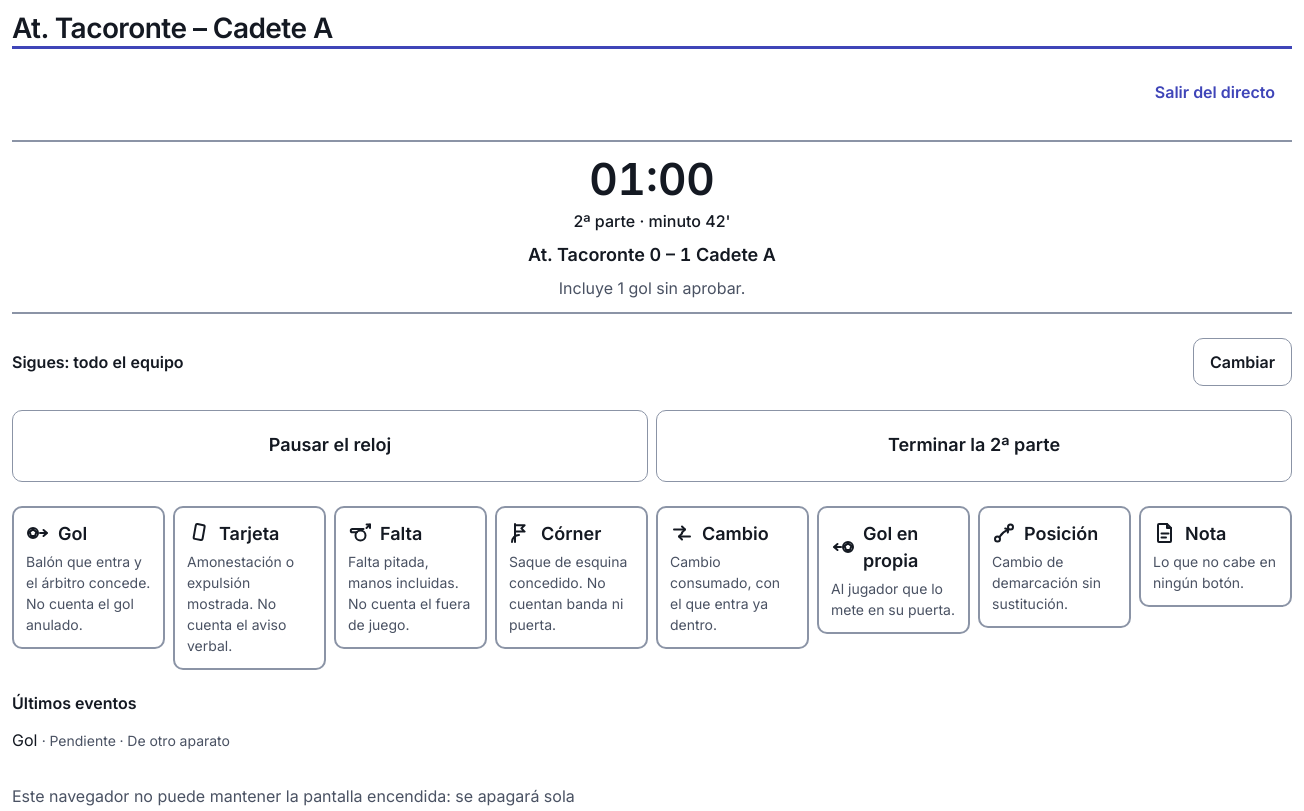
it: A12 · Directo, esqueleto › la marca lleva el reloj de la parte abierta, `null` al terminarla, y se va al finalizar (T-225)
The width and height of the screenshot is (1304, 811).
Check: the button "Terminar la 2ª parte" is shown, box x1=656 y1=410 x2=1292 y2=482
// En pausa: el mismo arranque, con el instante en que se paró.
Click the button "Pausar el reloj" at (330, 446), box x1=12 y1=410 x2=648 y2=482
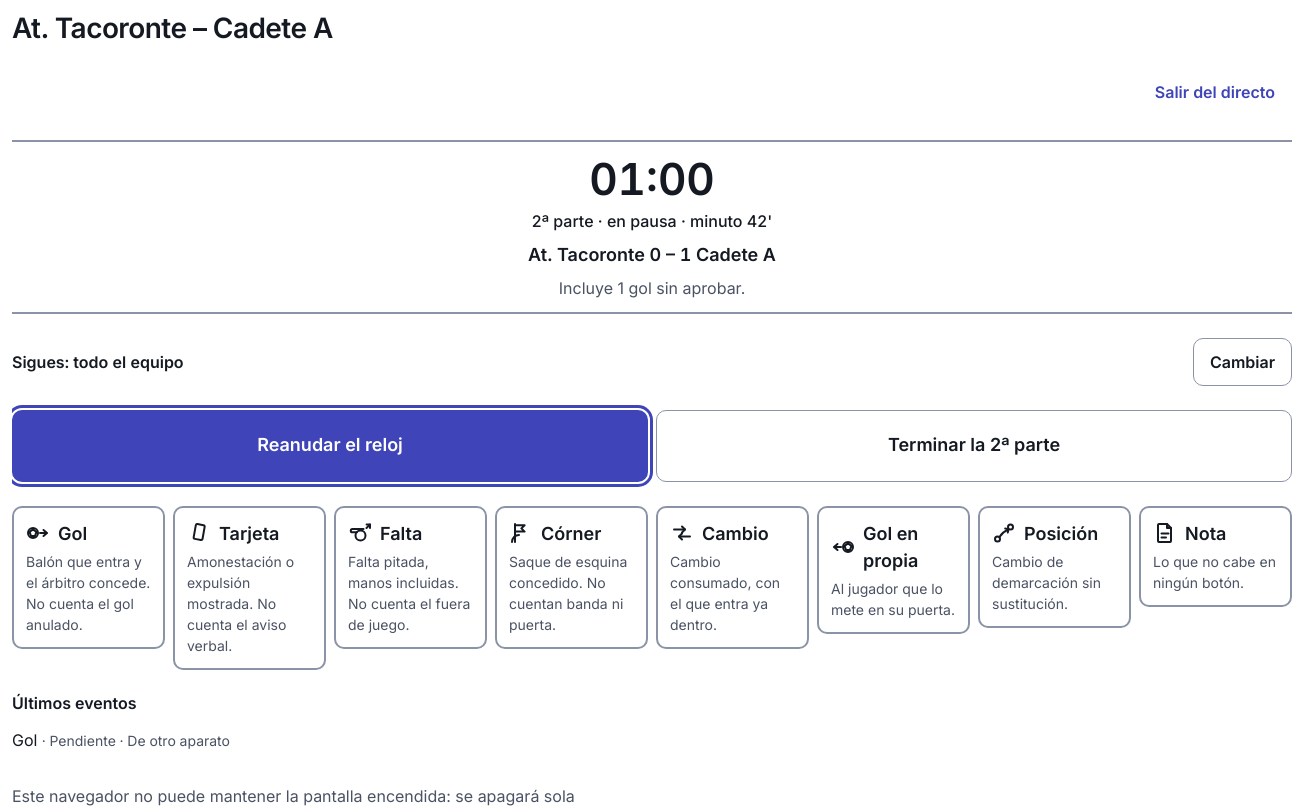
// Terminada la parte ya no hay reloj que enseñar, pero el partido sigue.
Click the button "Terminar la 2ª parte" at (974, 446), box x1=656 y1=410 x2=1292 y2=482
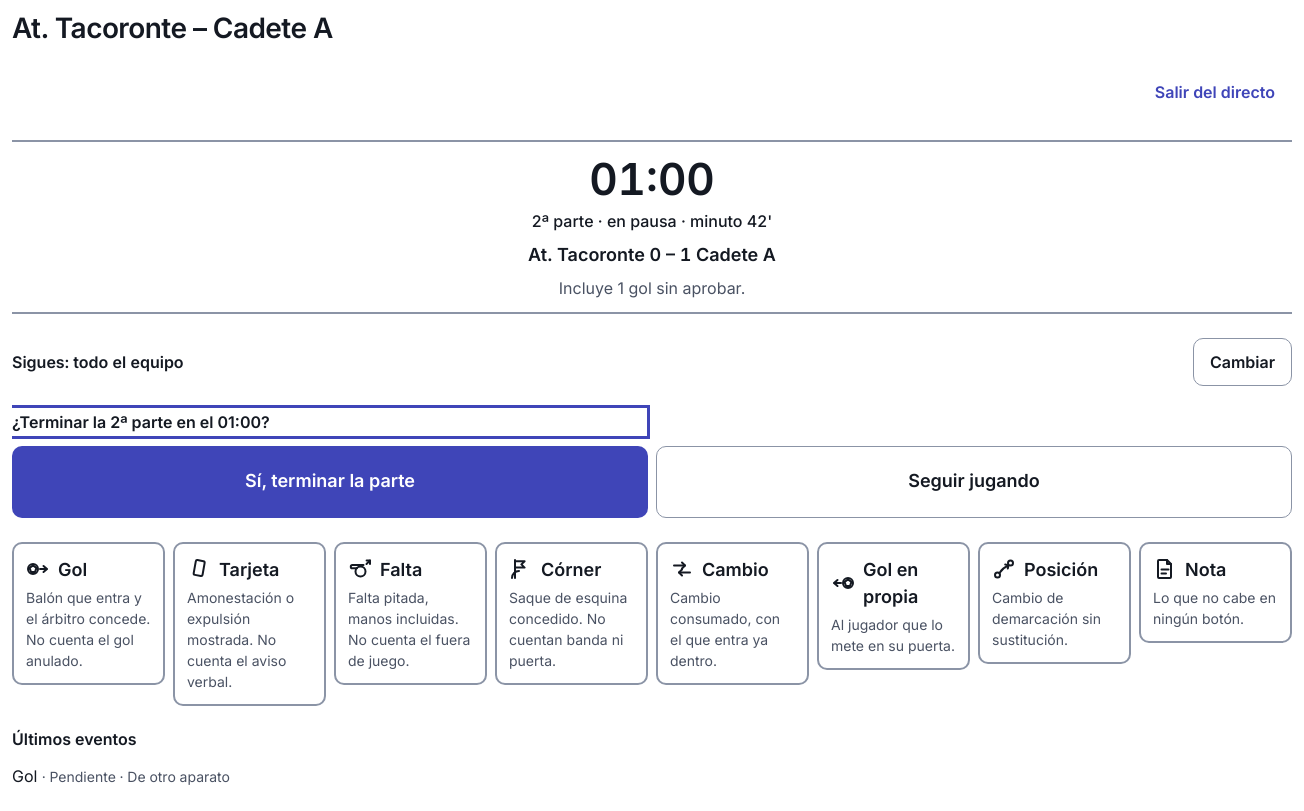
Click the button "Sí, terminar la parte" at (330, 482), box x1=12 y1=446 x2=648 y2=518
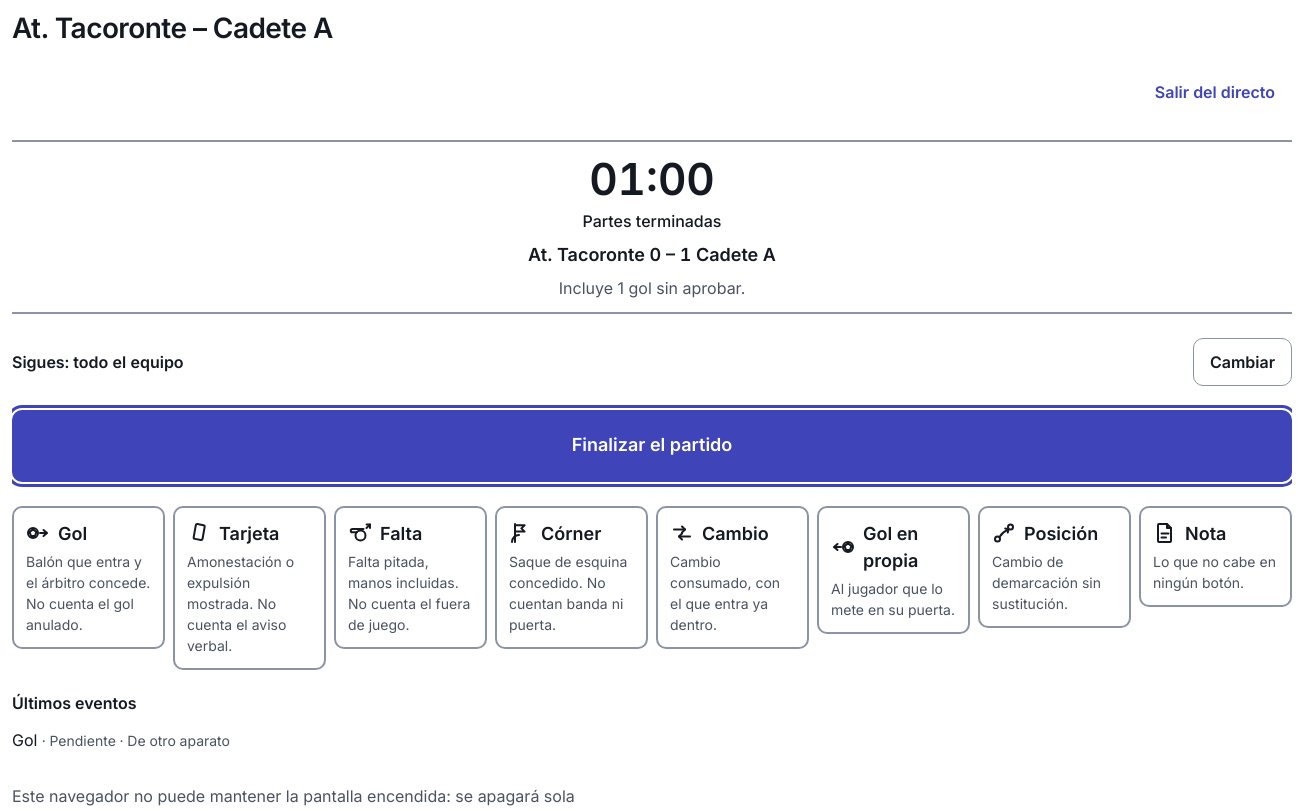
Check: the button "Finalizar el partido" is shown
Click the button "Finalizar el partido" at (652, 446), box x1=12 y1=410 x2=1292 y2=482
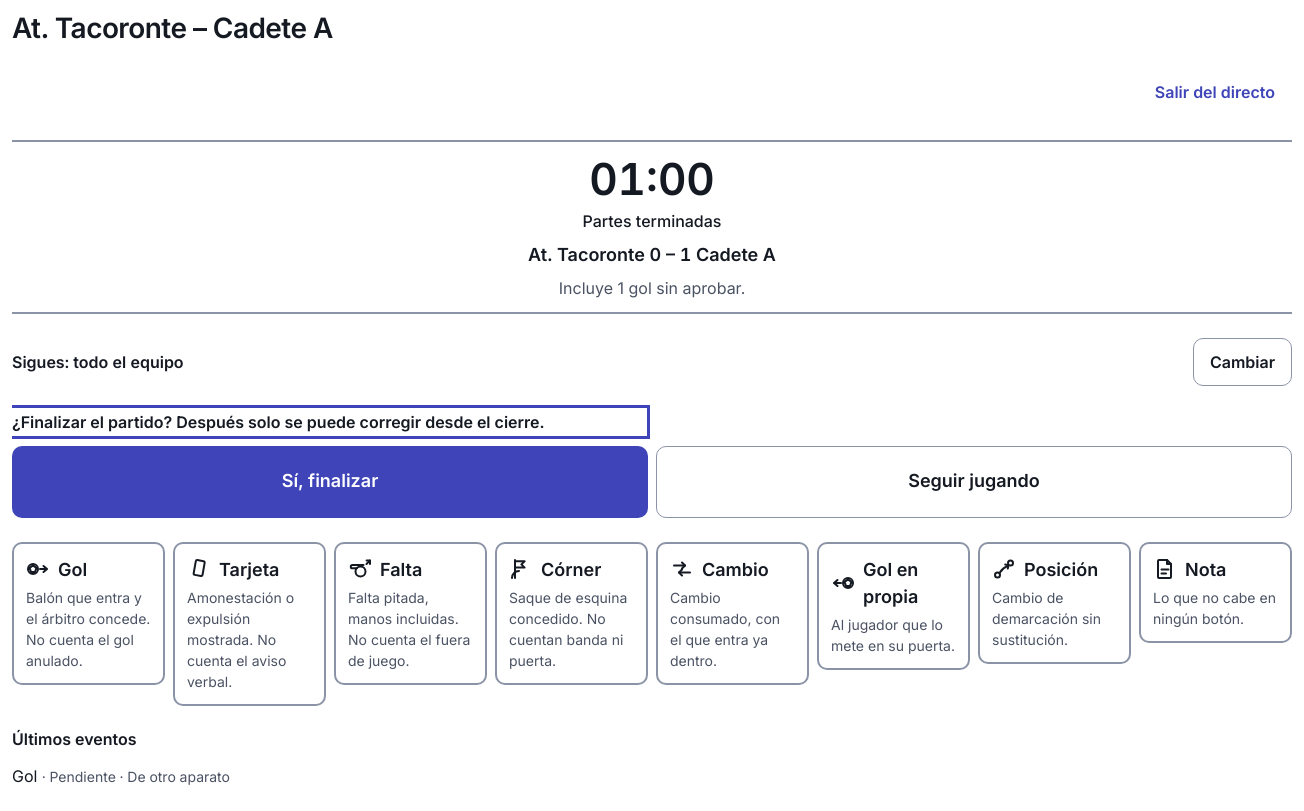
Click the button "Sí, finalizar" at (330, 482), box x1=12 y1=446 x2=648 y2=518
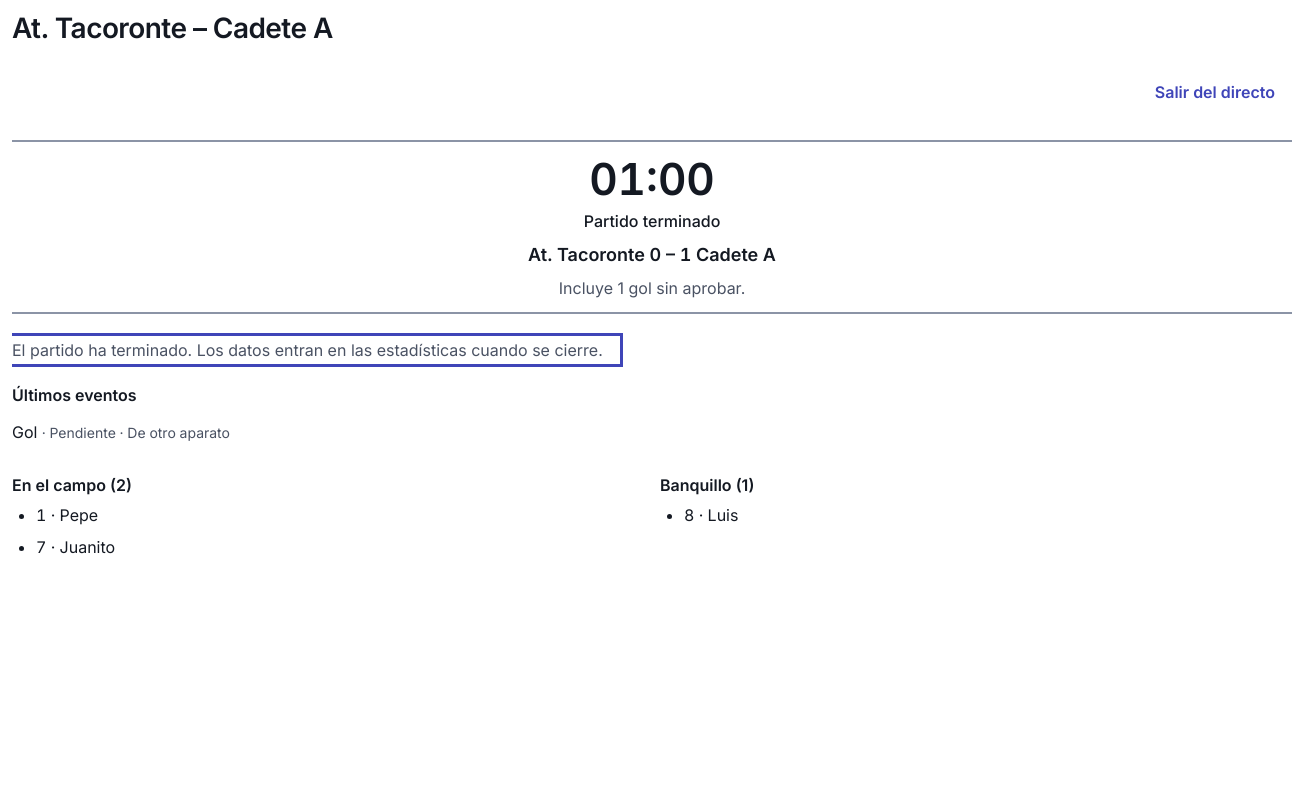
Check: the text "El partido ha terminado" is shown, box x1=12 y1=340 x2=603 y2=360
